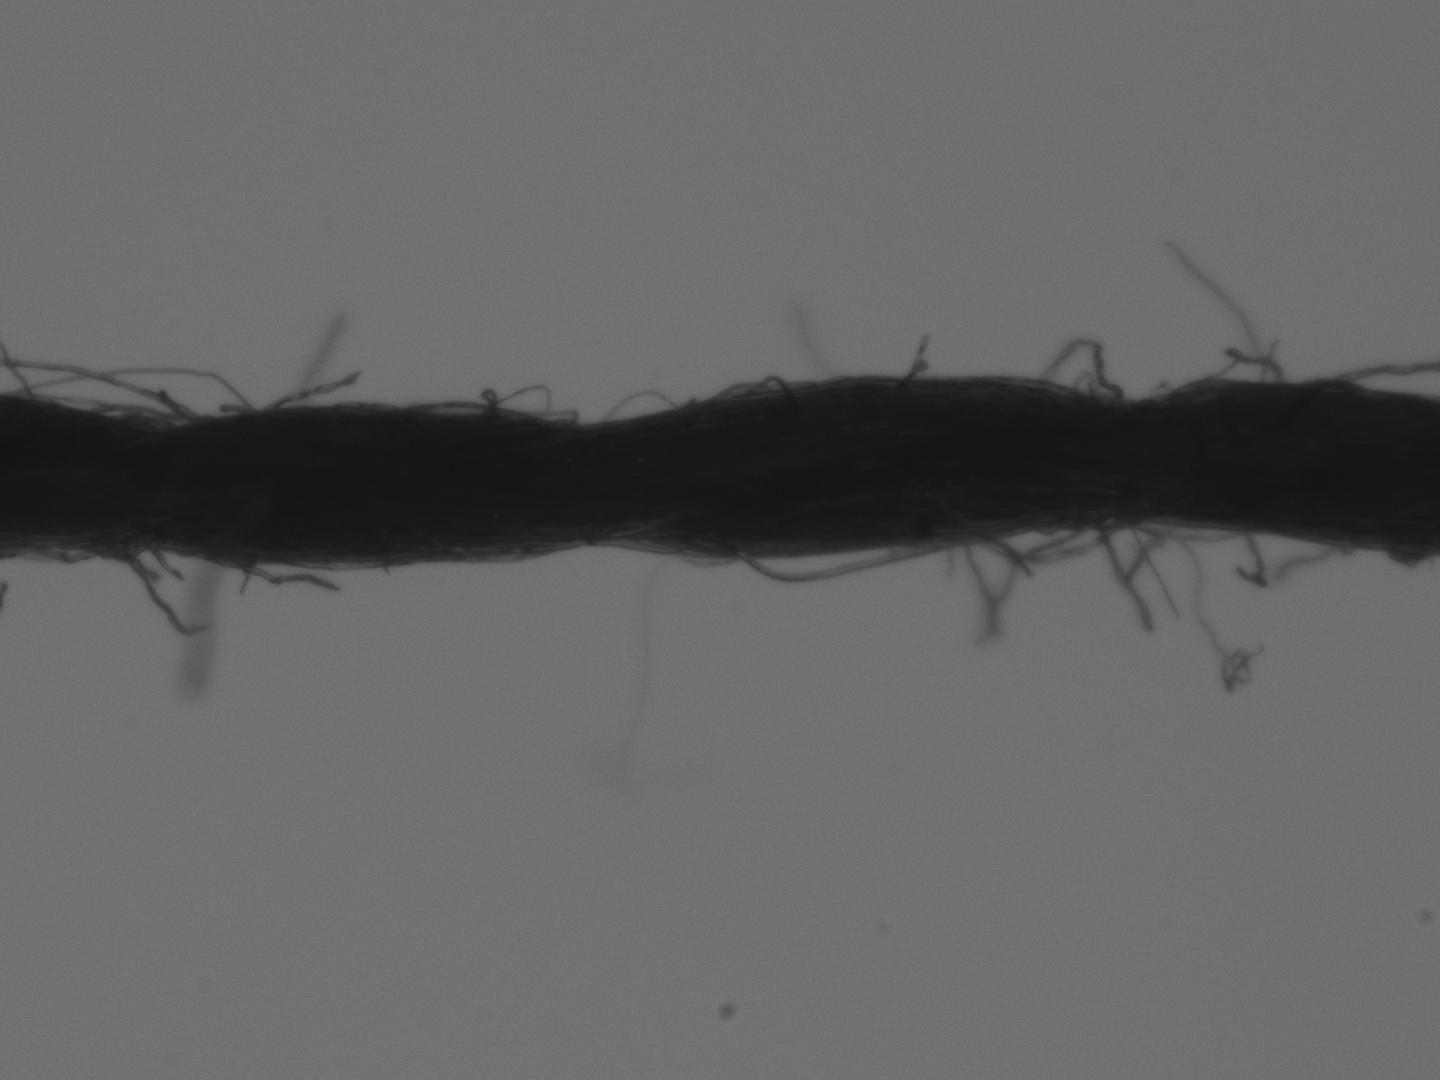loop_fiber: (11, 361, 252, 428), (726, 534, 991, 588), (976, 515, 1140, 562), (1041, 335, 1125, 402), (1185, 341, 1284, 394), (404, 396, 571, 424), (705, 369, 798, 399), (596, 387, 675, 422), (86, 399, 166, 425)
protruding_fiber: (122, 548, 205, 636)
